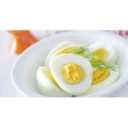begg: (51, 54, 93, 94), (95, 61, 120, 84)
